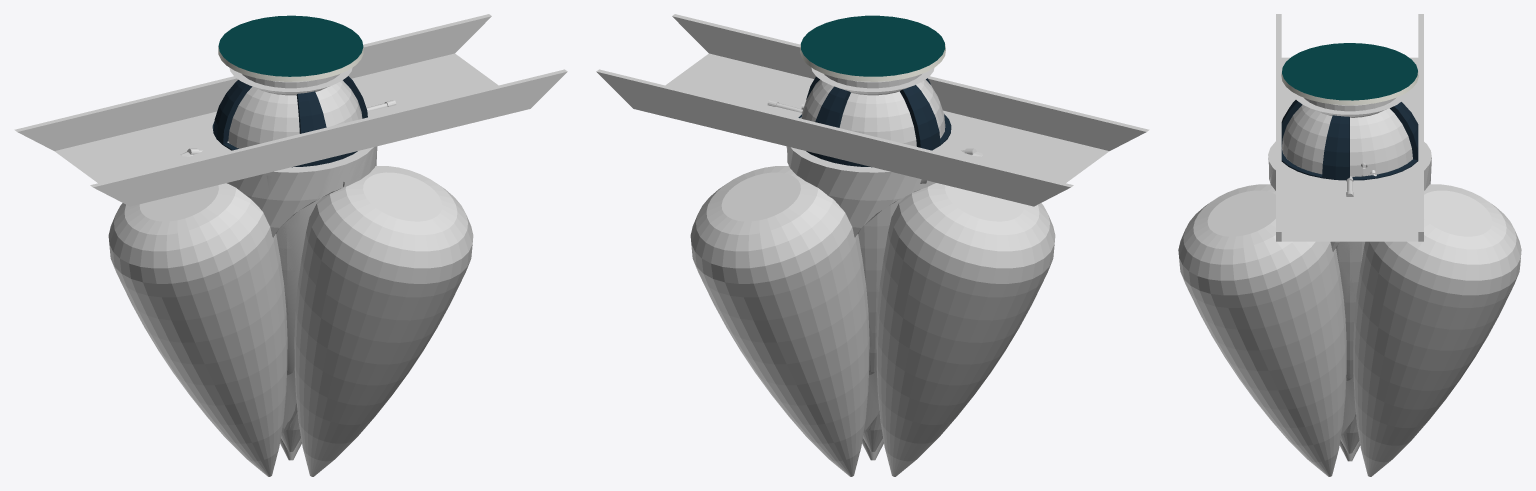
The model's file is Buildings_BlenderCollection.fbx.
3 views of the same model, side by side, from view 1: azimuth 30°, elevation 25°; view 2: azimuth 150°, elevation 25°; view 3: azimuth 270°, elevation 25° (orthographic). The views are drawn at different scales.
Visible parts, largest first — view 1: Cylinder.004, roadConnector.001, Cylinder.002, Buidling_4.002, GlassDome.001, Building_3.001, Building_3.002, GlassBase.001, Building_1.001, Cylinder.005, Retopo_Mesh; view 2: Cylinder.003, roadConnector.001, Cylinder.002, Buidling_4.002, Building_3.001, GlassDome.001, GlassBase.001, Cylinder.005, Building_1.001, Retopo_Mesh; view 3: Cylinder.003, Cylinder.004, roadConnector.001, Buidling_4.002, GlassDome.001, GlassBase.001, Cylinder.005, Building_1.001, Building_3.001, Building_3.002, Retopo_Mesh.
Boxes of the visible parts, left/top/right/bottom form: Cylinder.004: left=294, top=166, right=473, bottom=476; roadConnector.001: left=14, top=14, right=567, bottom=206; Cylinder.002: left=108, top=183, right=287, bottom=476; Buidling_4.002: left=218, top=15, right=363, bottom=81; GlassDome.001: left=228, top=80, right=362, bottom=148; Building_3.001: left=227, top=147, right=376, bottom=451; Building_3.002: left=229, top=143, right=377, bottom=451; GlassBase.001: left=212, top=76, right=367, bottom=167; Building_1.001: left=229, top=67, right=352, bottom=95; Cylinder.005: left=231, top=144, right=320, bottom=374; Retopo_Mesh: left=266, top=175, right=344, bottom=428; Cylinder.003: left=690, top=166, right=869, bottom=476; roadConnector.001: left=596, top=14, right=1149, bottom=206; Cylinder.002: left=876, top=183, right=1055, bottom=476; Buidling_4.002: left=800, top=15, right=945, bottom=81; Building_3.001: left=786, top=146, right=935, bottom=451; GlassDome.001: left=801, top=79, right=945, bottom=146; GlassBase.001: left=798, top=76, right=951, bottom=167; Cylinder.005: left=858, top=133, right=943, bottom=374; Building_1.001: left=811, top=67, right=934, bottom=95; Retopo_Mesh: left=855, top=179, right=926, bottom=430; Cylinder.003: left=1353, top=184, right=1521, bottom=476; Cylinder.004: left=1178, top=184, right=1346, bottom=476; roadConnector.001: left=1276, top=14, right=1423, bottom=241; Buidling_4.002: left=1281, top=43, right=1418, bottom=105; GlassDome.001: left=1282, top=105, right=1412, bottom=176; GlassBase.001: left=1281, top=100, right=1418, bottom=180; Cylinder.005: left=1336, top=160, right=1411, bottom=380; Building_1.001: left=1292, top=92, right=1407, bottom=117; Building_3.001: left=1268, top=141, right=1431, bottom=453; Building_3.002: left=1268, top=142, right=1431, bottom=440; Retopo_Mesh: left=1270, top=177, right=1355, bottom=433.
Bounding box in the file's own units: 754 × 645 × 502.
